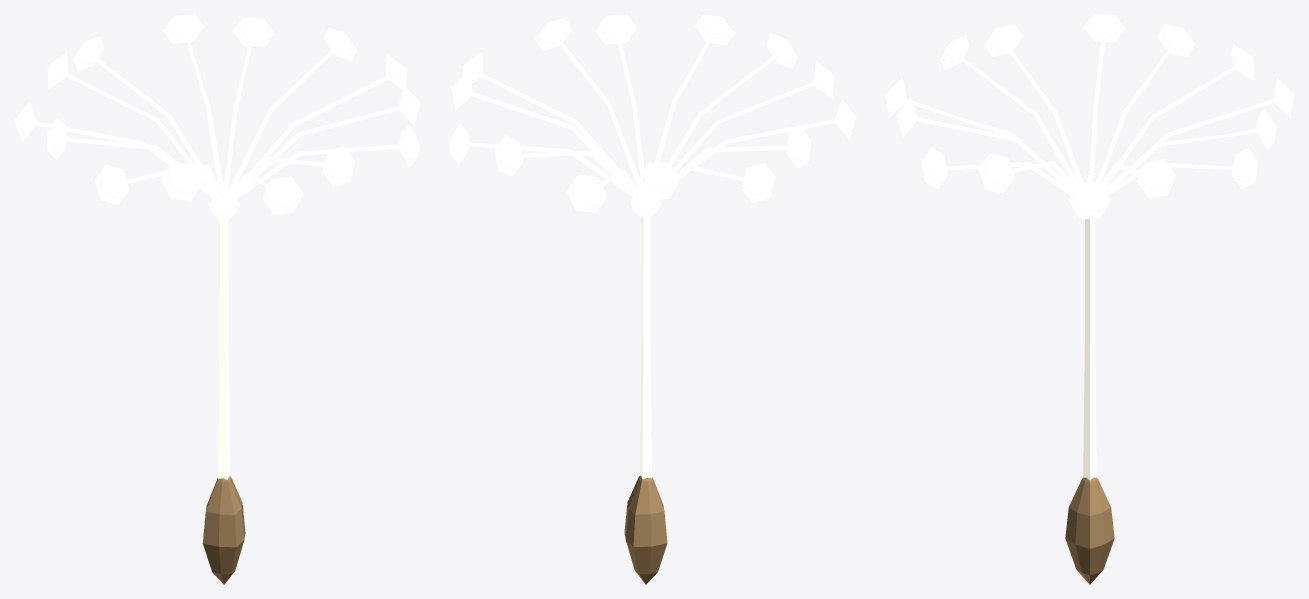
File: dandelion-seed.glb
3 views of the same model, side by side, from view 1: azimuth 30°, elevation 25°; view 2: azimuth 150°, elevation 25°; view 3: azimuth 270°, elevation 25° (orthographic).
Parts seen in each view (by area): view 1: dandelion-seed; view 2: dandelion-seed; view 3: dandelion-seed.
Boxes of the visible parts, box(x1,y1,x2,y2) form: dandelion-seed: box(14, 14, 420, 584); dandelion-seed: box(449, 14, 856, 584); dandelion-seed: box(885, 14, 1294, 584).
Size of the model in its own units: 5.91 by 7.97 by 5.97.
